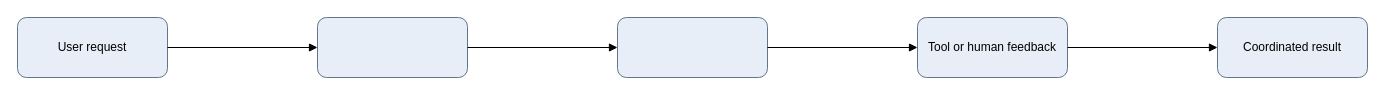
The diagram is 1385 pixels wide and 95 high, and some of its shapes have lost their labels. Here are the shapes that lost their labels. From the top down, the centre of each, then its label:
At (392,47): "Assistant agent".
At (692,47): "Specialized agent".
